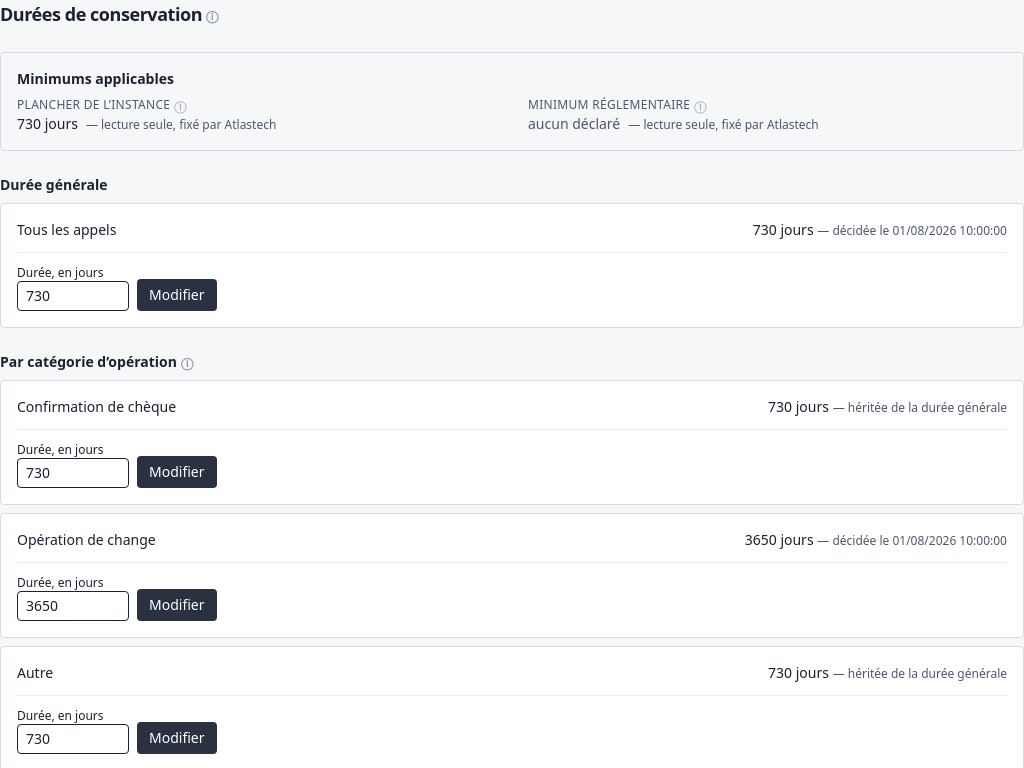
Scenario: écran des durées de conservation › remonte le refus de l’api sans prétendre avoir enregistré
Step 1. Click the button "Modifier" below "Opération de change" → (177, 605), box [137,589,216,621]
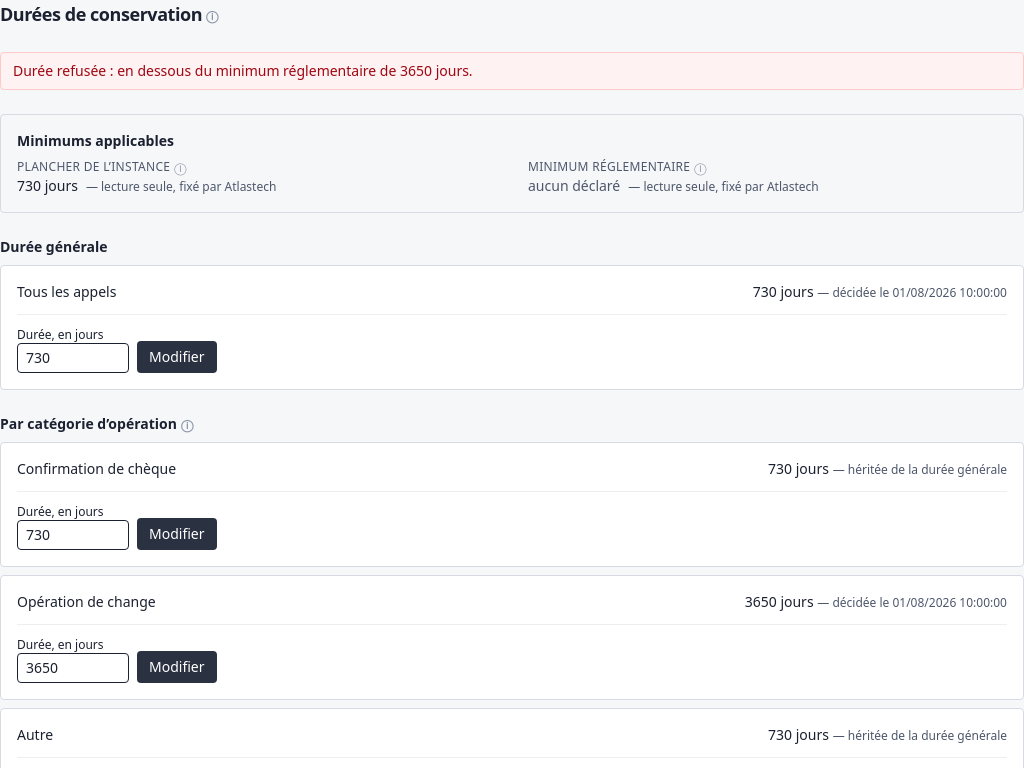
Check: the message shows "minimum réglementaire de 3650", box [13,61,473,80]
